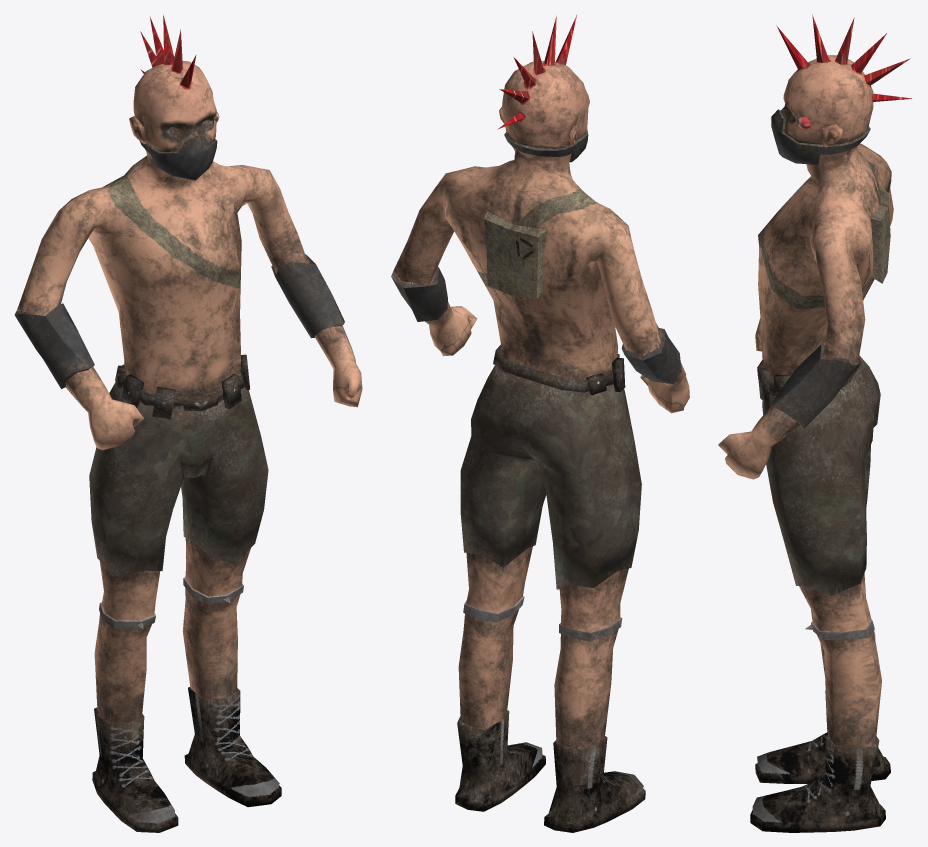
File: Anim_disparar_ametralladora_npc2.0012.obj
3 views of the same model, side by side, from view 1: azimuth 30°, elevation 25°; view 2: azimuth 150°, elevation 25°; view 3: azimuth 270°, elevation 25° (orthographic).
Parts seen in each view (by area): view 1: polySurface1; view 2: polySurface1; view 3: polySurface1.
Boxes of the visible parts, x1,y1,x2,y2 form: polySurface1: [14, 15, 362, 832]; polySurface1: [391, 15, 689, 832]; polySurface1: [718, 14, 911, 832].
Size of the model in its own units: 3.94 by 10.21 by 2.31.
Materials: 2 (2 with a texture image).
